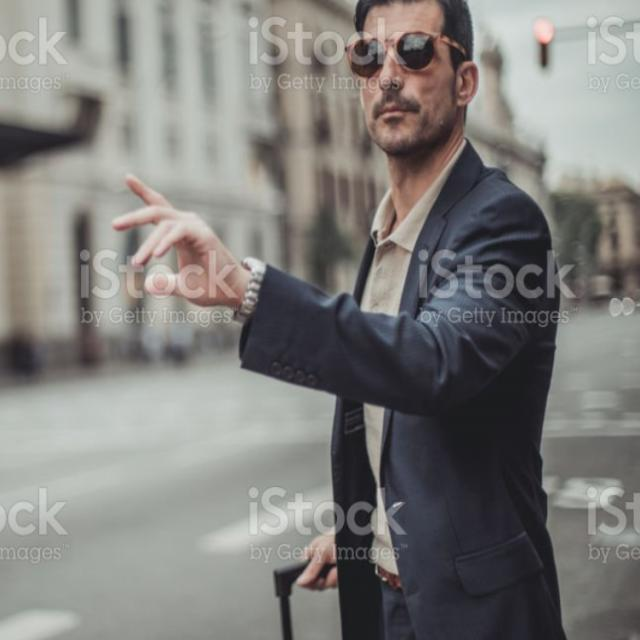Watch: (235, 254, 268, 324)
